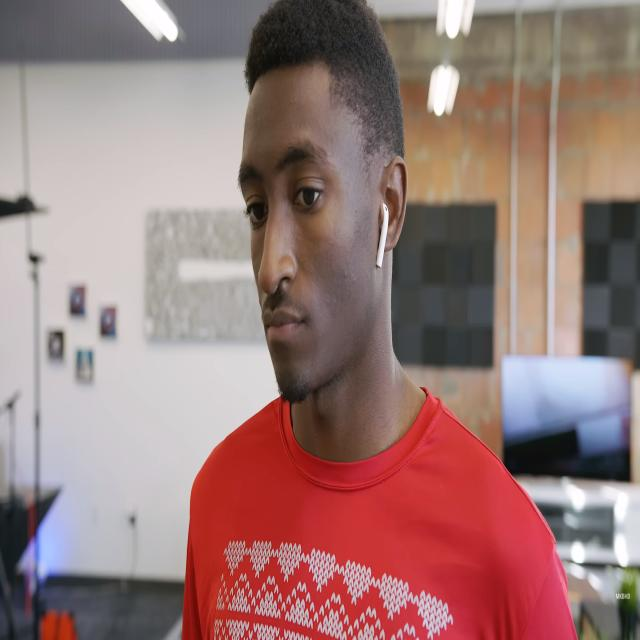airpods: (375, 202, 390, 270)
